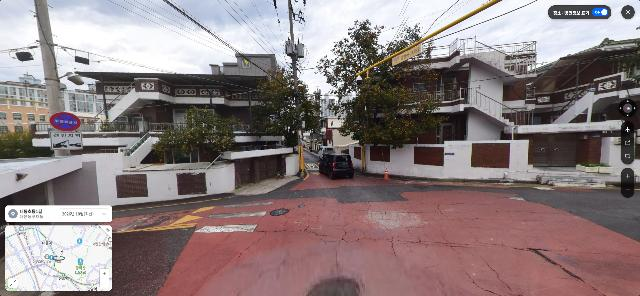other: (316, 19, 446, 151), (255, 63, 323, 154), (154, 108, 238, 168)
